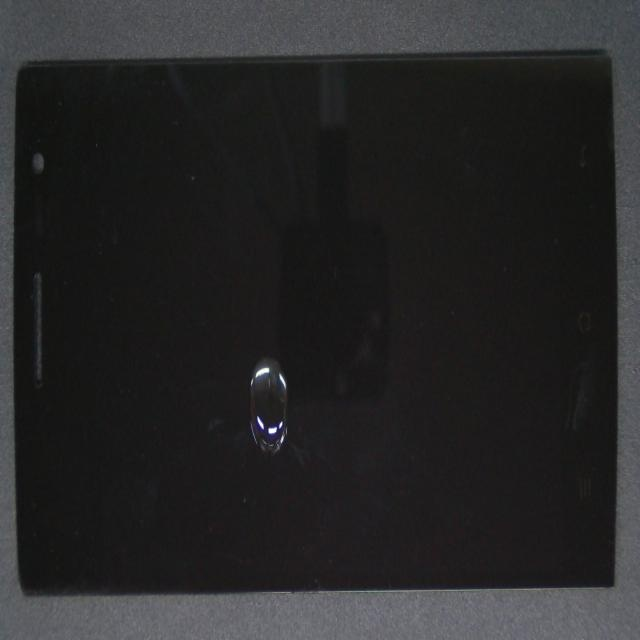oil: (161, 202, 428, 556)
